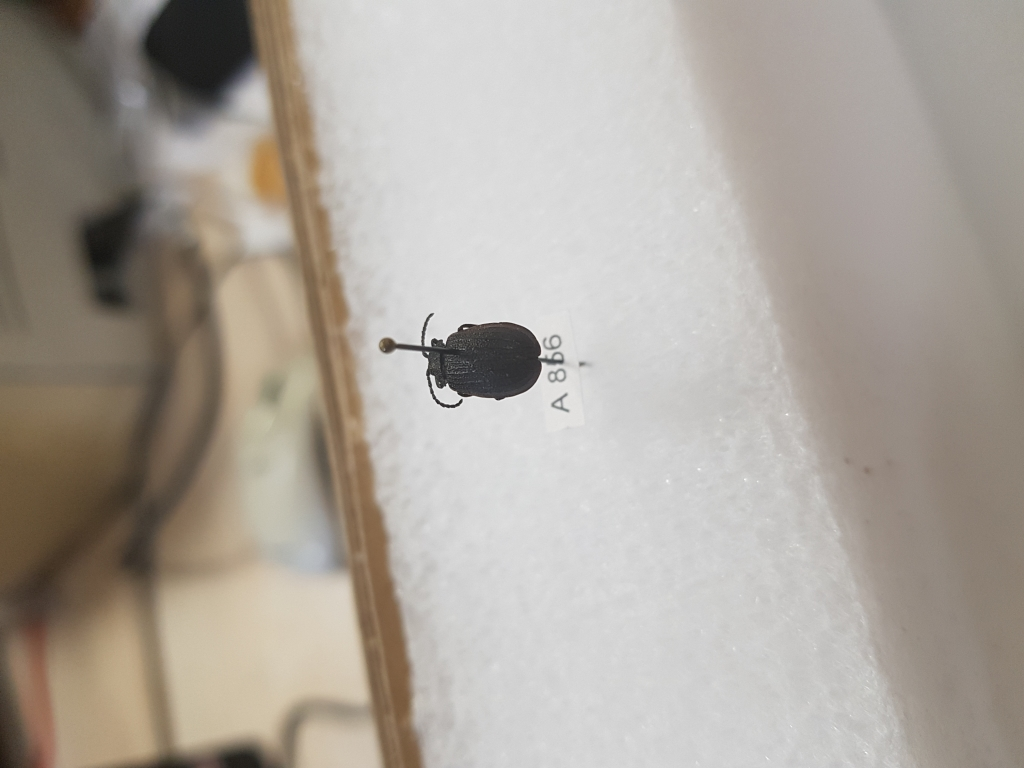Galeruca_tanaceti: (417, 311, 542, 409)
